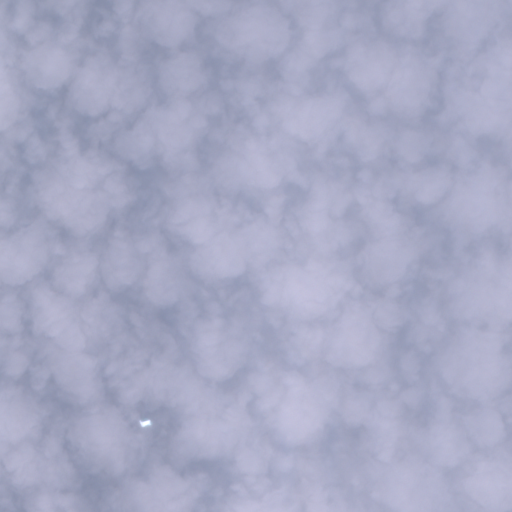Iceberg: (140, 420, 150, 426)
